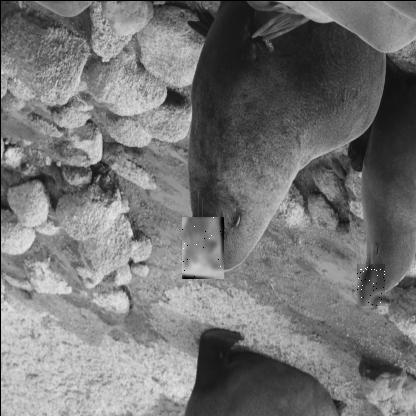face: (180, 215, 223, 278), (355, 262, 384, 305)
